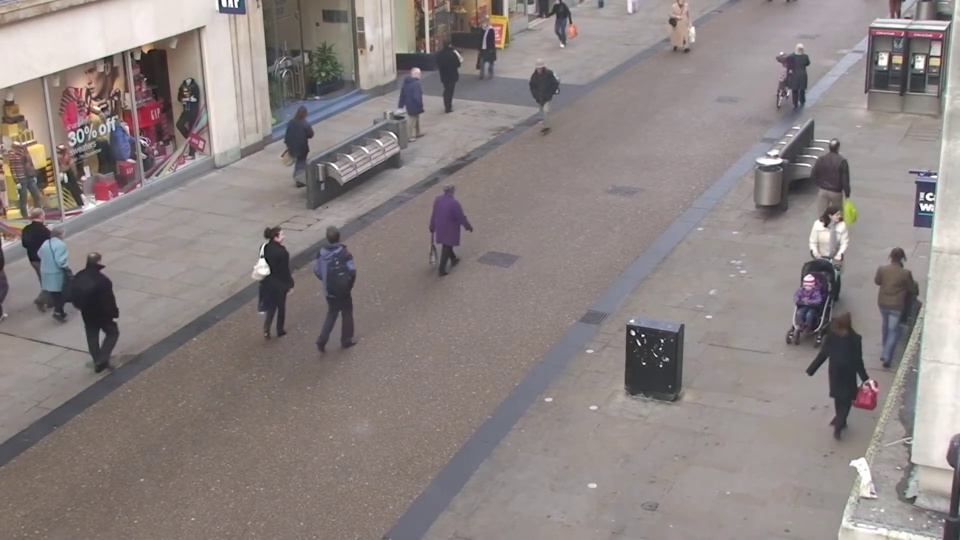pedestrian: (817, 297, 873, 442), (86, 242, 141, 368), (777, 269, 827, 406), (867, 233, 920, 362), (44, 215, 99, 334), (23, 200, 79, 315), (264, 215, 309, 336), (320, 214, 364, 336), (805, 202, 850, 321), (438, 170, 476, 282), (819, 135, 860, 238), (293, 102, 326, 193), (408, 64, 437, 145), (784, 39, 814, 116), (524, 61, 552, 142), (438, 36, 465, 110), (470, 17, 494, 84)
